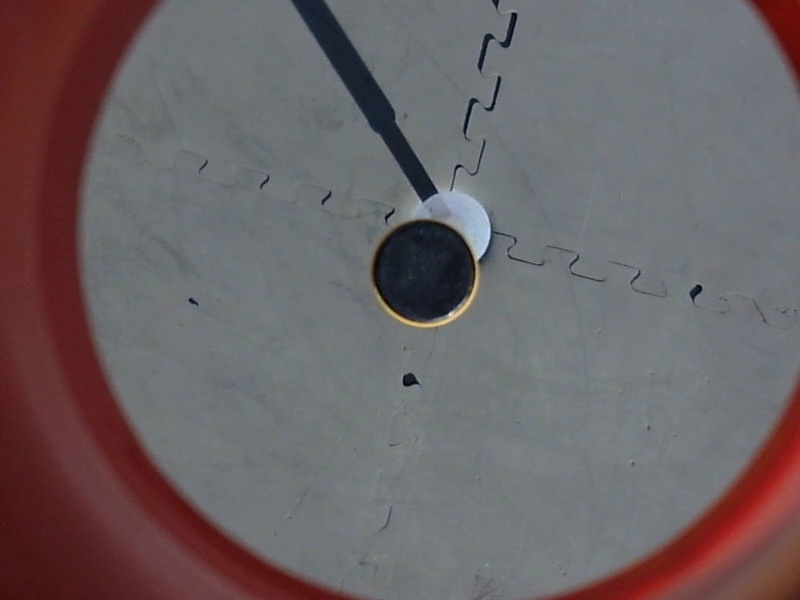tip: (364, 218, 484, 331)
